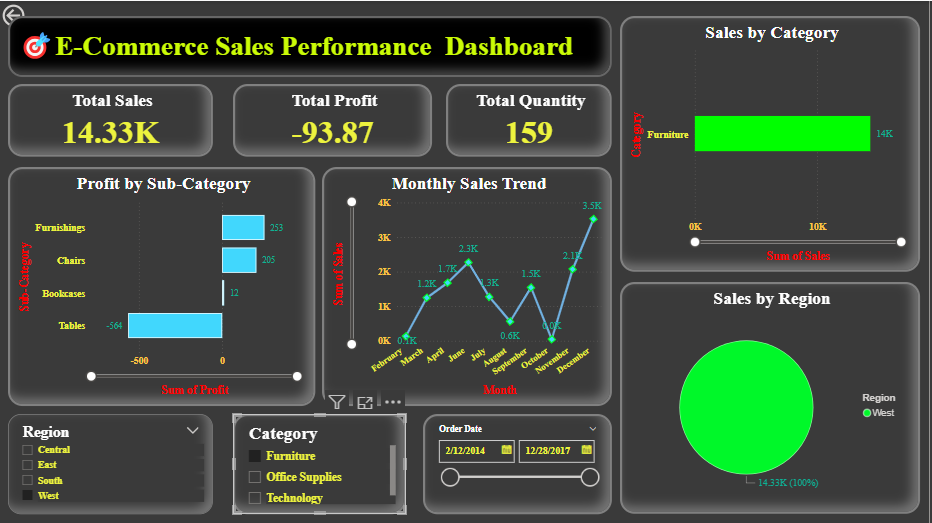

Layout of this report page (visuals, bound fields, positions):
{"tool":"powerbi","page":{"name":"Page 1","canvas":[1280,720],"ordinal":0},"visuals":[{"type":"actionButton","box":[0,0,100,40],"z":0},{"type":"card","title":"Total Sales","fields":{"Values":["Sum(Ecommerce_Sales_Data.Sales)"]},"box":[12.4,114.2,282.2,100.5],"z":1000},{"type":"card","title":"Total Profit","fields":{"Values":["Sum(Ecommerce_Sales_Data.Profit)"]},"box":[322.1,114.2,273.9,100.5],"z":2000},{"type":"card","title":"Total Quantity","fields":{"Values":["Sum(Ecommerce_Sales_Data.Quantity)"]},"box":[615.2,114.2,228.5,100.5],"z":3000},{"type":"clusteredBarChart","title":"Sales by Category","fields":{"Category":["Ecommerce_Sales_Data.Category"],"Y":["Sum(Ecommerce_Sales_Data.Sales)"]},"box":[854.7,20.6,412.9,352.3],"z":4000},{"type":"clusteredBarChart","title":"Profit by Sub-Category","fields":{"Category":["Ecommerce_Sales_Data.Sub-Category"],"Y":["Sum(Ecommerce_Sales_Data.Profit)"]},"box":[12.4,228.5,422.5,328.9],"z":5000},{"type":"lineChart","title":"Monthly Sales Trend","fields":{"Category":["Ecommerce_Sales_Data.Order Date.Variation.Date Hierarchy.Month"],"Y":["Sum(Ecommerce_Sales_Data.Sales)"]},"box":[444.6,228.5,399.1,328.9],"z":6000},{"type":"pieChart","title":"Sales by Region","fields":{"Category":["Ecommerce_Sales_Data.Region"],"Y":["Sum(Ecommerce_Sales_Data.Sales)"]},"box":[854.7,386.8,412.9,319.3],"z":7000},{"type":"slicer","title":"Region","fields":{"Values":["Ecommerce_Sales_Data.Region"]},"box":[12.4,568.4,282.2,137.6],"z":8000},{"type":"slicer","title":"Category","fields":{"Values":["Ecommerce_Sales_Data.Category"]},"box":[322.1,568.4,238.1,137.6],"z":9000},{"type":"slicer","title":"Order Date","fields":{"Values":["Ecommerce_Sales_Data.Order Date"]},"box":[583.6,568.4,260.1,137.6],"z":10000},{"type":"textbox","box":[12.4,20.6,831.3,84],"z":11000}]}

Visuals, with their boxes in screenshot pixels (x1, y1, x2, y2), scaled from the page's 1280x720 canvas onto the 932x523 screenshot:
actionButton: {"left": 0, "top": 0, "right": 73, "bottom": 29}
"Total Sales" card: {"left": 9, "top": 83, "right": 215, "bottom": 156}
"Total Profit" card: {"left": 235, "top": 83, "right": 434, "bottom": 156}
"Total Quantity" card: {"left": 448, "top": 83, "right": 614, "bottom": 156}
"Sales by Category" clusteredBarChart: {"left": 622, "top": 15, "right": 923, "bottom": 271}
"Profit by Sub-Category" clusteredBarChart: {"left": 9, "top": 166, "right": 317, "bottom": 405}
"Monthly Sales Trend" lineChart: {"left": 324, "top": 166, "right": 614, "bottom": 405}
"Sales by Region" pieChart: {"left": 622, "top": 281, "right": 923, "bottom": 513}
"Region" slicer: {"left": 9, "top": 413, "right": 215, "bottom": 513}
"Category" slicer: {"left": 235, "top": 413, "right": 408, "bottom": 513}
"Order Date" slicer: {"left": 425, "top": 413, "right": 614, "bottom": 513}
textbox: {"left": 9, "top": 15, "right": 614, "bottom": 76}
